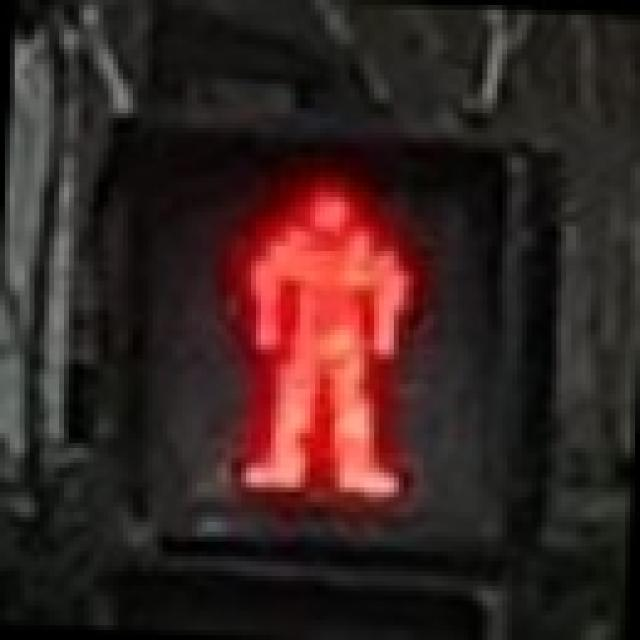red-crossing: (123, 94, 507, 542)
